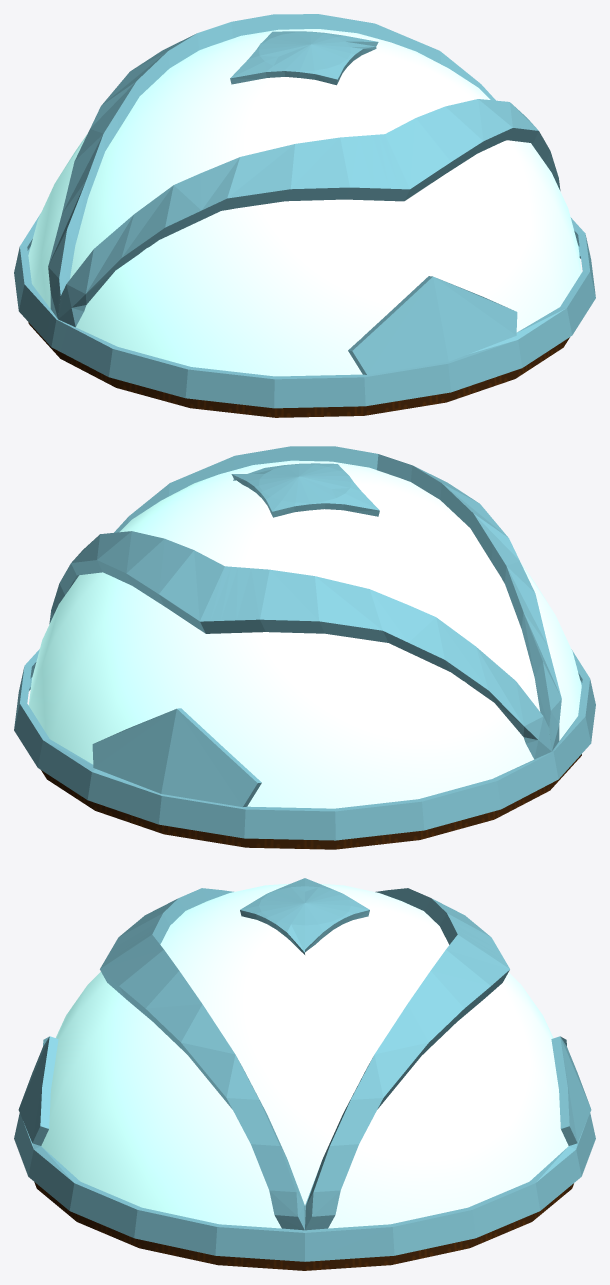
The model's file is crystal.fbx.
3 renders of one model, top to bottom at view 1: azimuth 30°, elevation 25°; view 2: azimuth 150°, elevation 25°; view 3: azimuth 270°, elevation 25°, orthographic.
Visible parts, largest first — view 1: polySurface103, polySurface102, polySurface100; view 2: polySurface103, polySurface102, polySurface100; view 3: polySurface103, polySurface102, polySurface100.
Part boxes in pixels (left/top/right/bottom): polySurface103: left=28, top=29, right=581, bottom=417; polySurface102: left=14, top=14, right=595, bottom=408; polySurface100: left=230, top=31, right=378, bottom=85; polySurface103: left=28, top=460, right=581, bottom=849; polySurface102: left=14, top=446, right=595, bottom=840; polySurface100: left=231, top=463, right=379, bottom=517; polySurface103: left=34, top=883, right=573, bottom=1270; polySurface102: left=14, top=888, right=595, bottom=1261; polySurface100: left=240, top=878, right=369, bottom=954.
Size of what is drawn, in the model's own units: 2.03 by 1.02 by 2.03.
